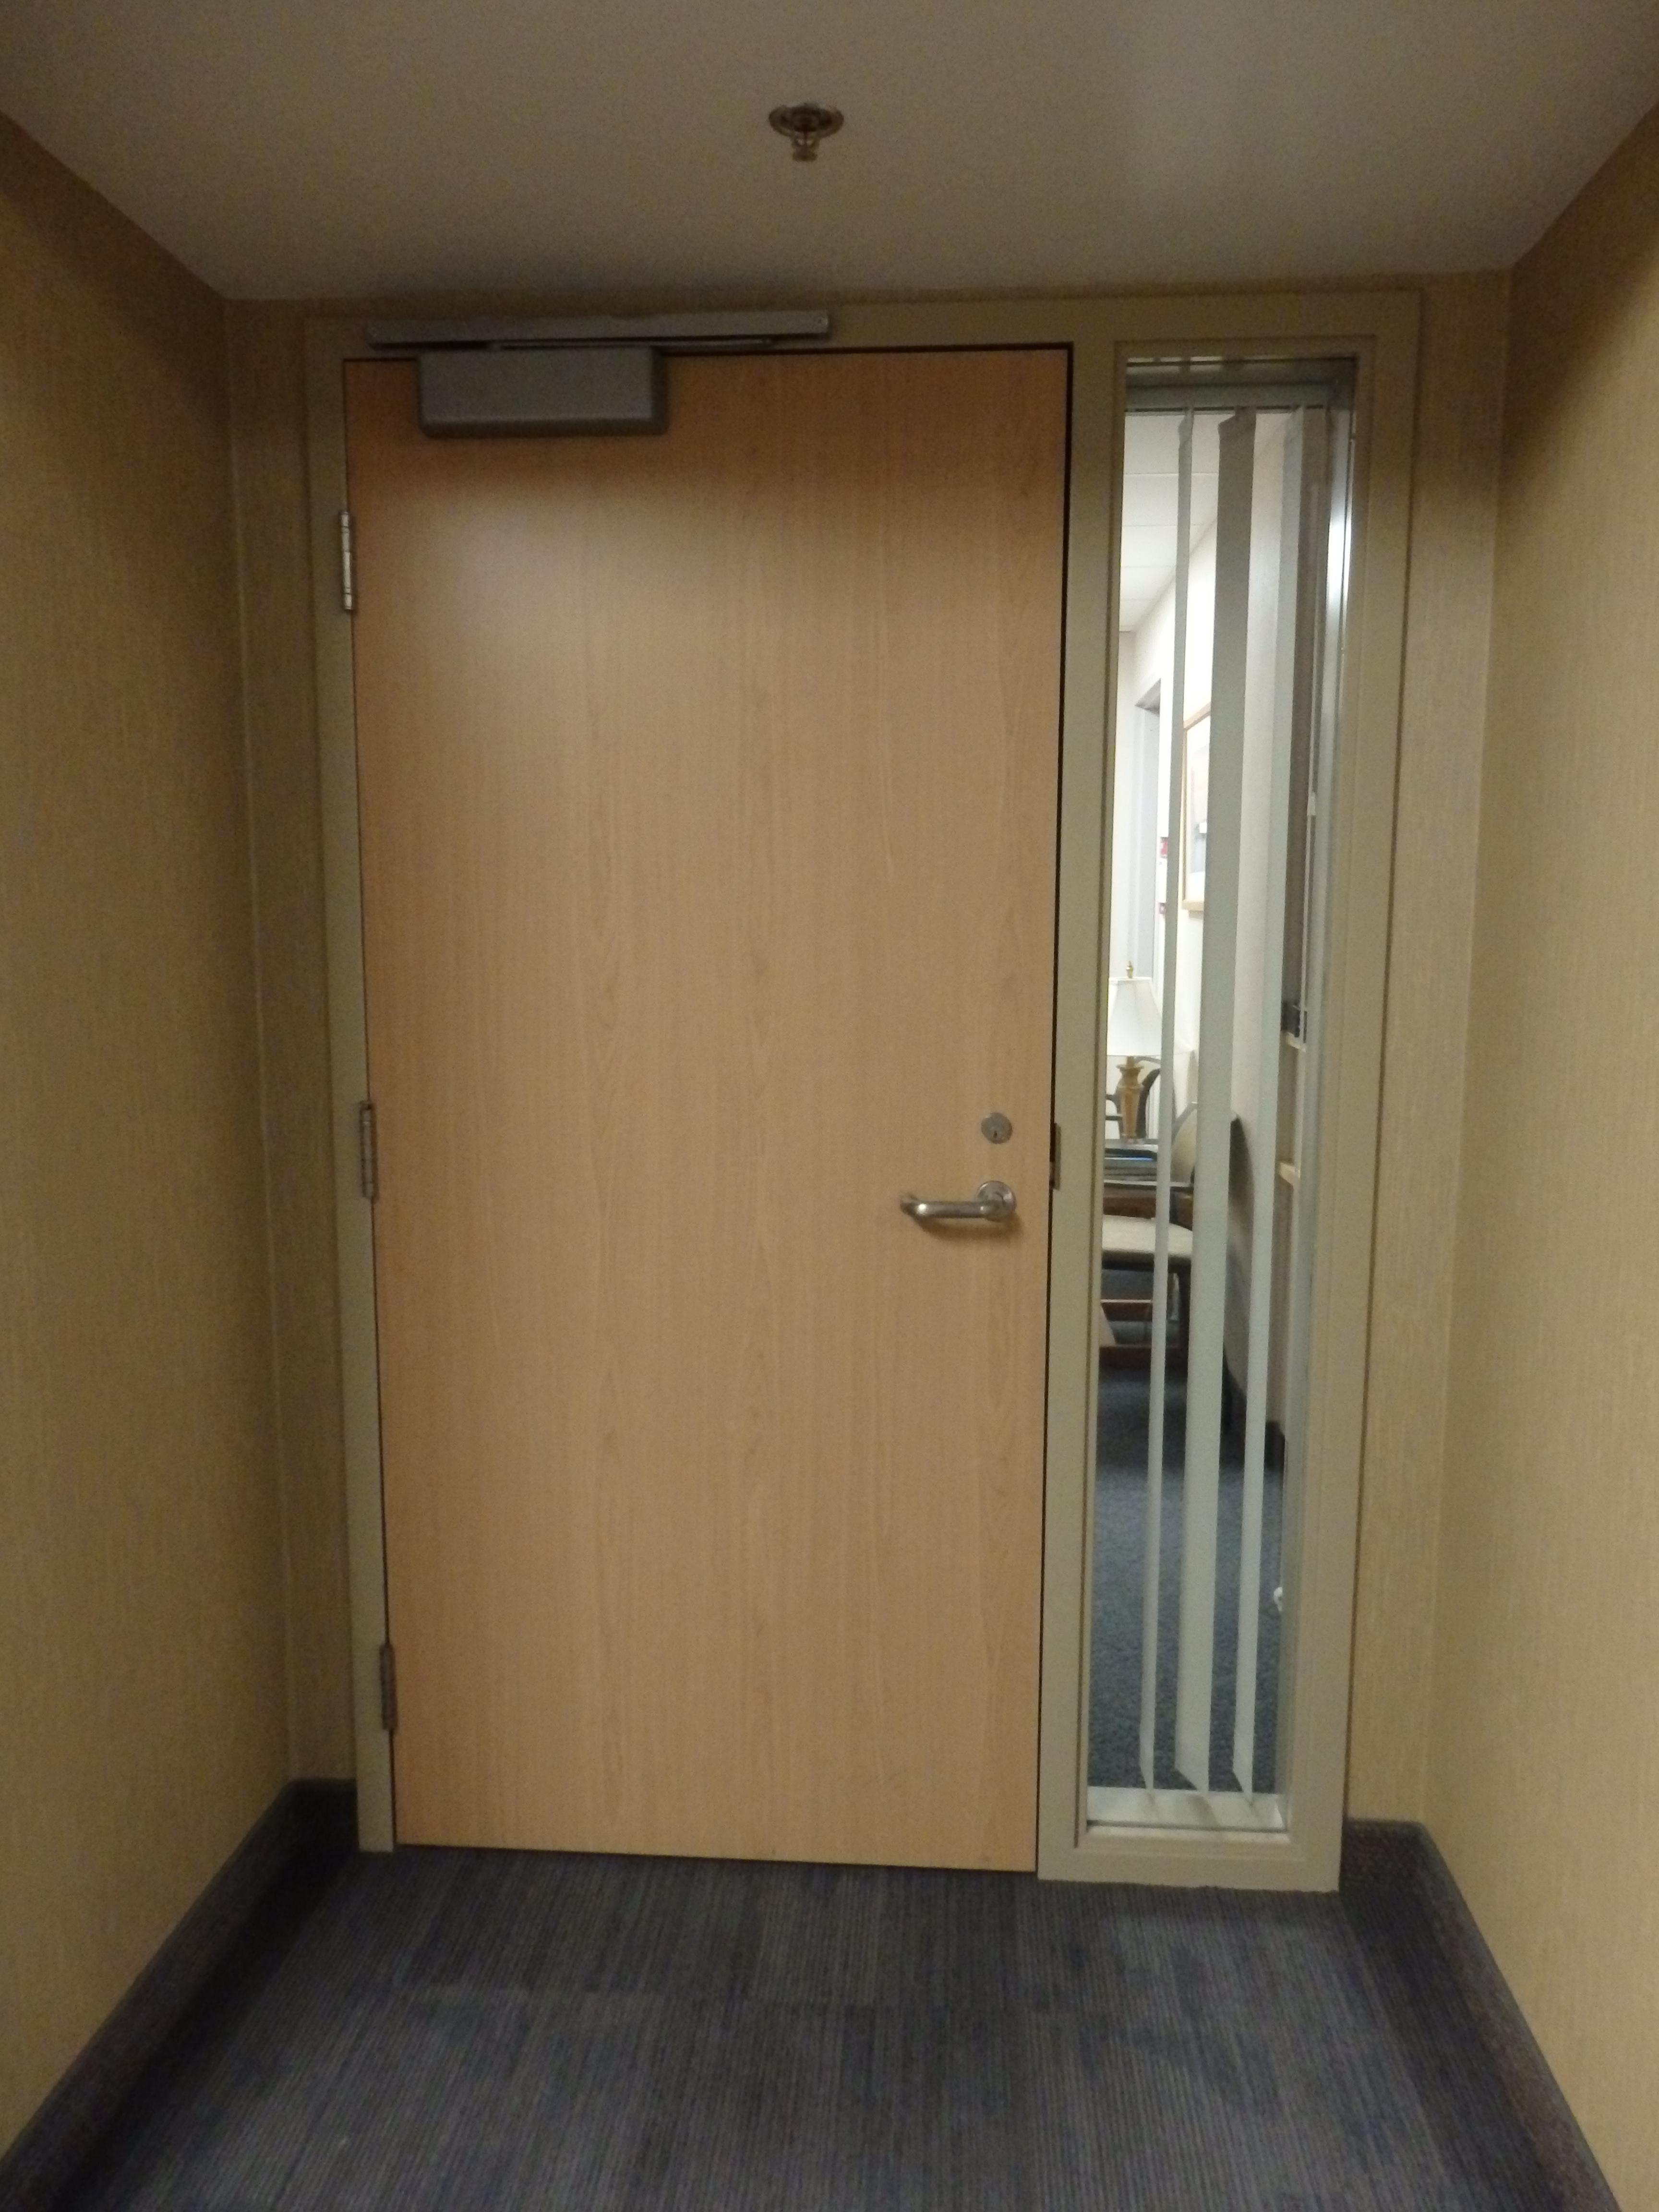door: (301, 293, 1124, 1885)
